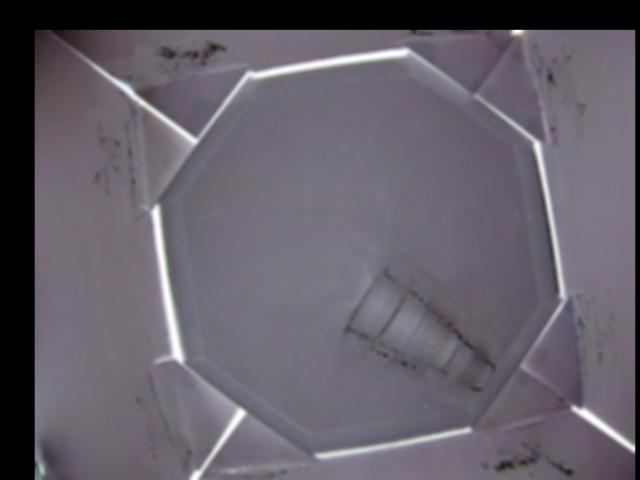Cup: (335, 249, 495, 395)
